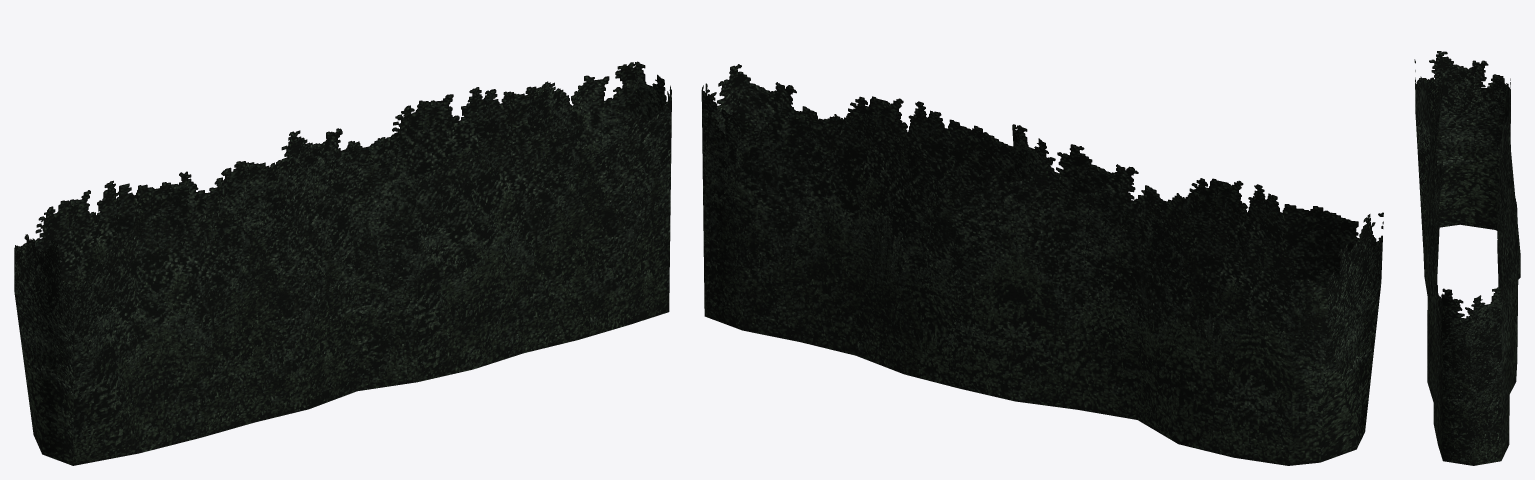
The model's file is SM_EC_ScrubLine_DoorWayEdge_0.fbx.
3 renders of one model, left to right at view 1: azimuth 30°, elevation 25°; view 2: azimuth 150°, elevation 25°; view 3: azimuth 270°, elevation 25°, orthographic. The views are drawn at different scales.
Parts seen in each view (by area): view 1: SM_EC_ScrubLine_DoorWayEdge_0; view 2: SM_EC_ScrubLine_DoorWayEdge_0; view 3: SM_EC_ScrubLine_DoorWayEdge_0.
Part boxes in pixels (<box>): SM_EC_ScrubLine_DoorWayEdge_0: <box>14,61,671,465</box>; SM_EC_ScrubLine_DoorWayEdge_0: <box>701,64,1383,465</box>; SM_EC_ScrubLine_DoorWayEdge_0: <box>1414,51,1520,465</box>.
Size of the model in its own units: 9.8 by 1.82 by 4.
